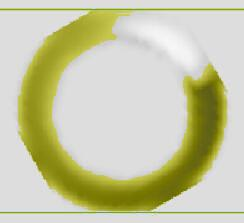ProgressBar: (1, 1, 243, 222)
